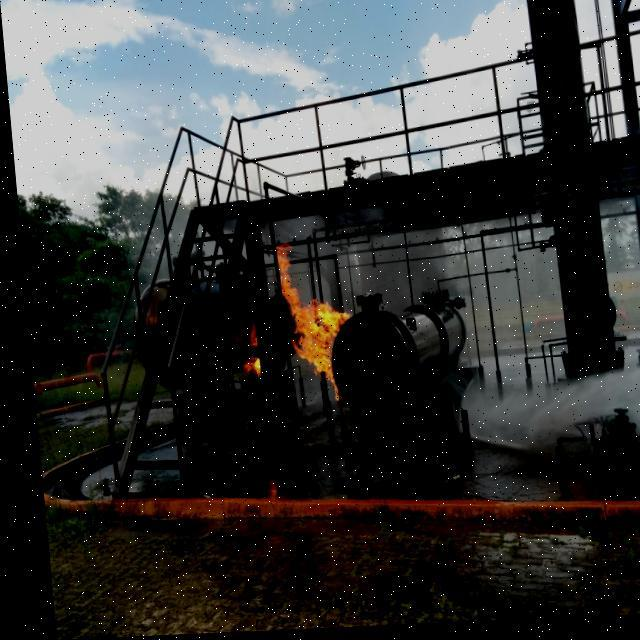Fire: (266, 244, 353, 406), (234, 327, 253, 382)
